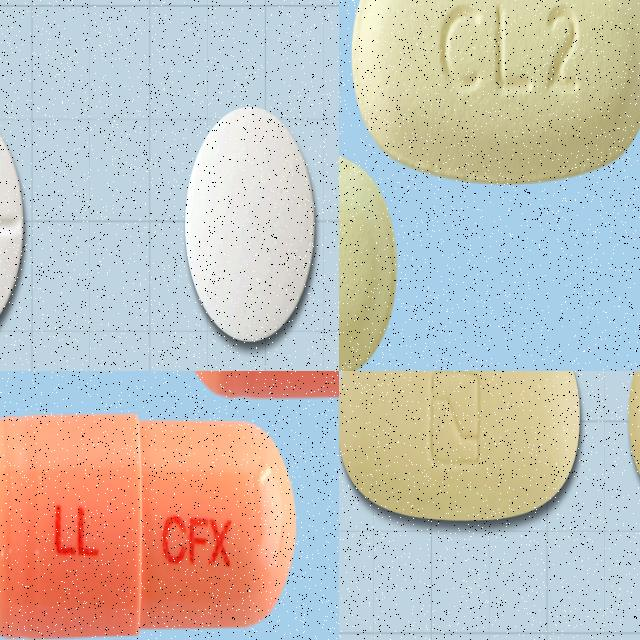Cefaxamin Cap: (0, 407, 301, 640)
Celltrion Clarithromycin: (349, 0, 640, 190)
Ciroxin - 250mg: (181, 103, 320, 350)
Claroma: (339, 371, 582, 524)
